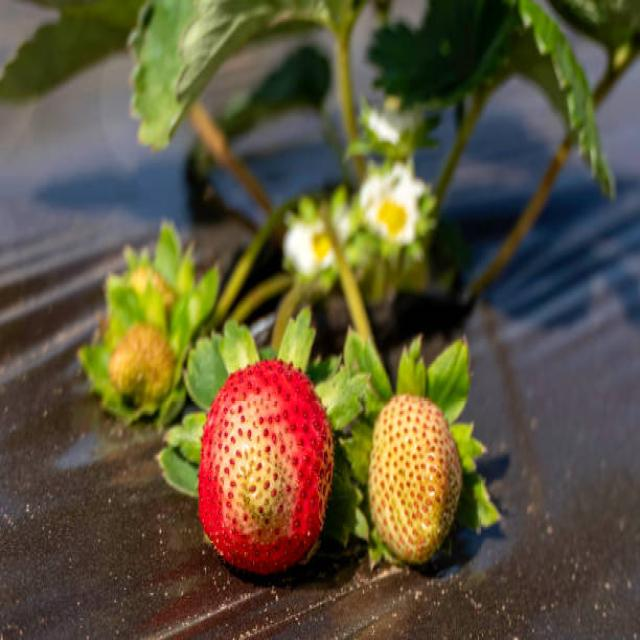Healthy Fruit: (198, 357, 335, 575), (367, 391, 461, 565)
